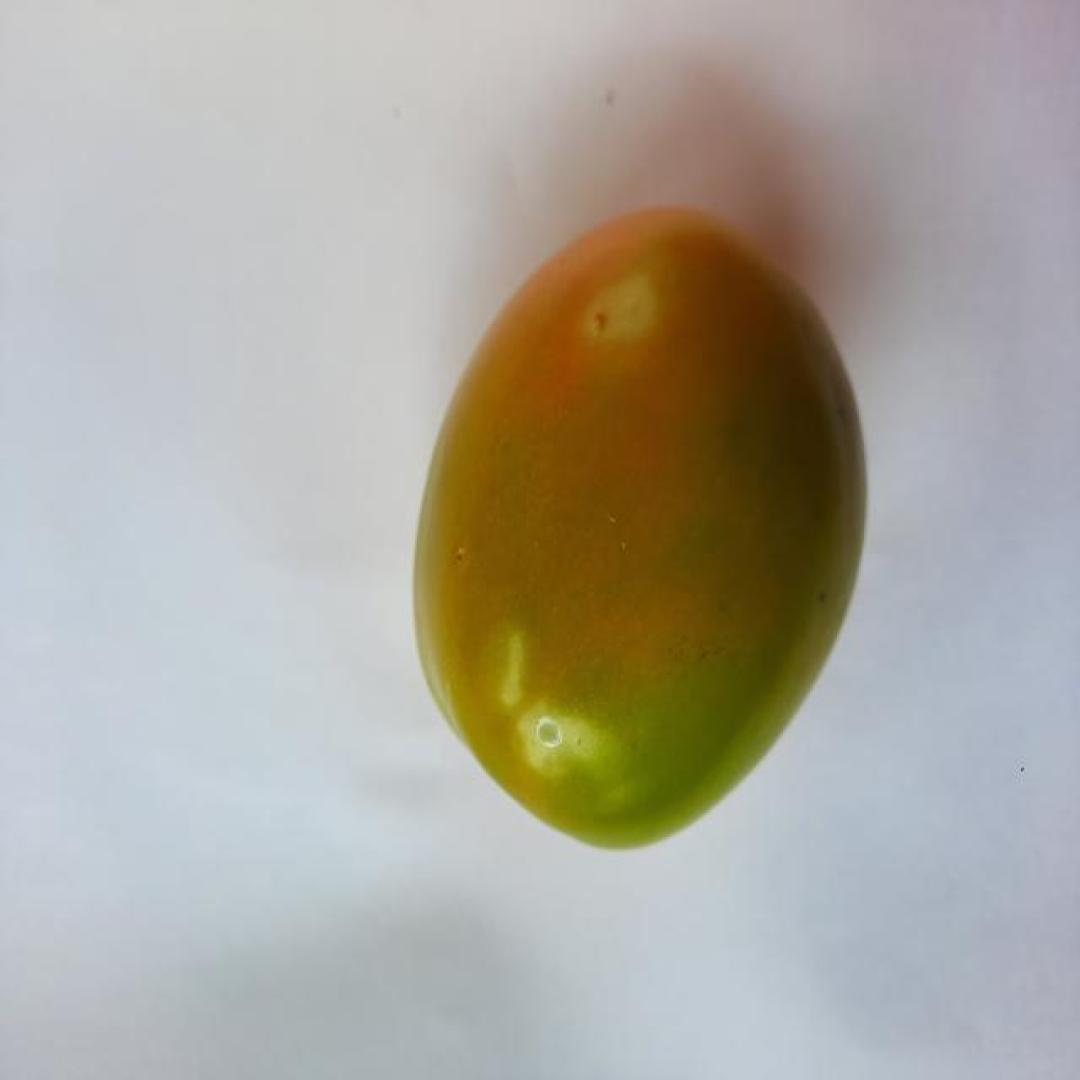setengah_matang: (405, 206, 871, 860)
